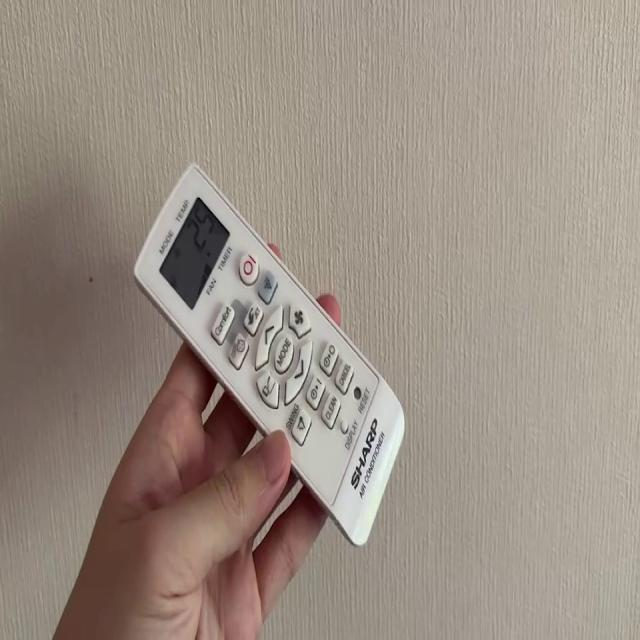remote: (137, 160, 406, 544)
